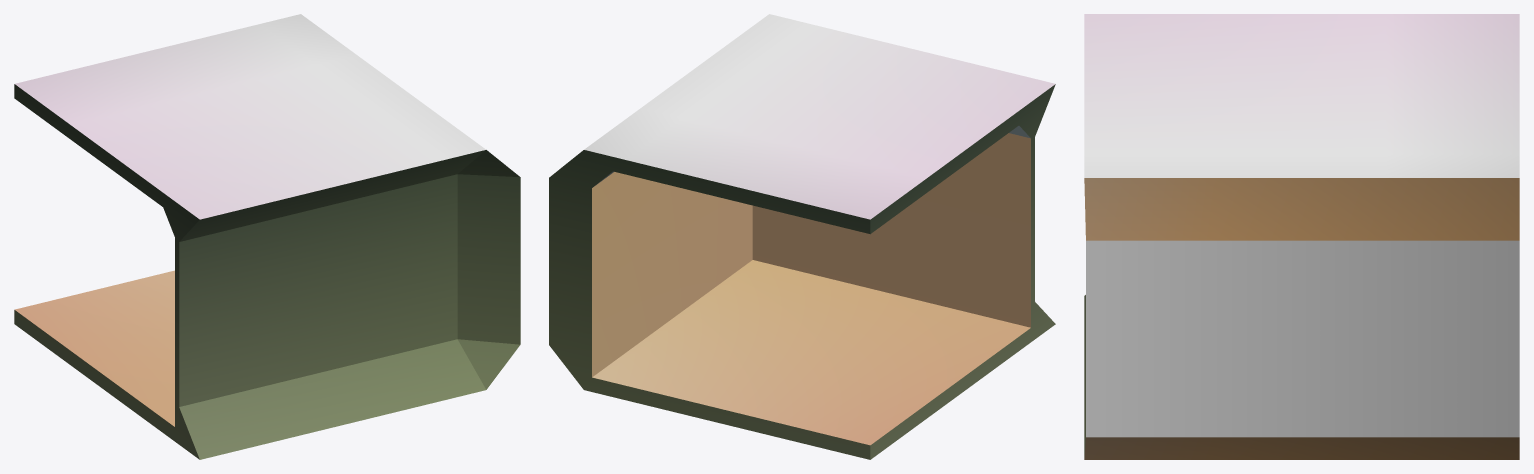
File: R_OutWall_Corner_R.fbx
3 renders of one model, left to right at view 1: azimuth 30°, elevation 25°; view 2: azimuth 150°, elevation 25°; view 3: azimuth 270°, elevation 25°, orthographic. The views are drawn at different scales.
Parts seen in each view (by area): view 1: R_OutWall_Corner_R; view 2: R_OutWall_Corner_R; view 3: R_OutWall_Corner_R.
Boxes of the visible parts, box(x1,y1,x2,y2) form: R_OutWall_Corner_R: box(14, 14, 520, 459); R_OutWall_Corner_R: box(549, 14, 1055, 459); R_OutWall_Corner_R: box(1084, 14, 1519, 459).
Bounding box in the file's own units: 4.62 × 4.62 × 3.3.
